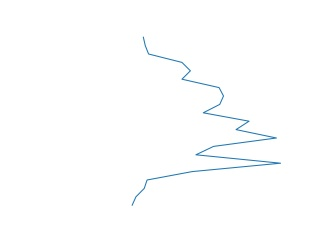floodSwamp: (128, 35, 284, 207)
